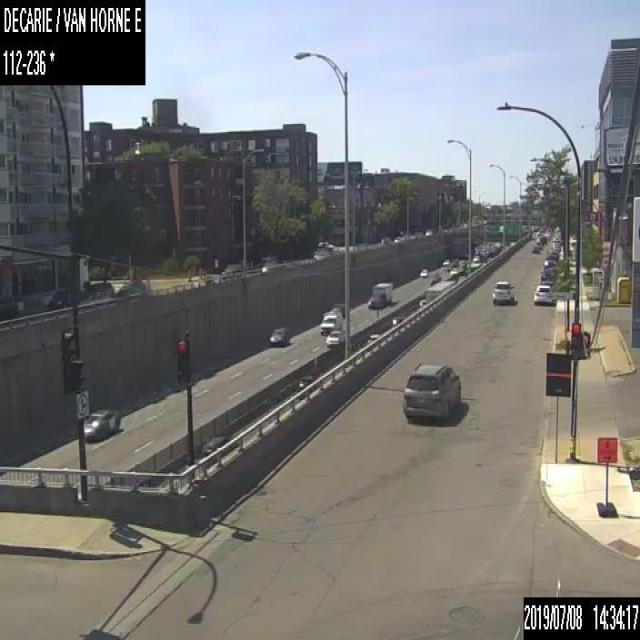construction: (596, 434, 616, 516)
vehicle: (401, 362, 459, 418), (85, 407, 119, 439), (78, 278, 114, 306), (200, 433, 234, 458), (426, 279, 456, 305), (367, 281, 392, 308), (319, 309, 342, 334), (116, 276, 146, 294), (491, 279, 513, 302), (48, 288, 74, 307), (268, 325, 289, 345), (532, 284, 552, 302), (296, 373, 314, 392), (325, 330, 343, 345), (364, 332, 381, 345), (331, 302, 344, 318), (540, 270, 554, 284), (313, 249, 328, 260), (542, 264, 556, 275), (390, 315, 405, 325), (544, 253, 556, 265), (471, 255, 480, 268), (318, 241, 332, 248), (536, 235, 544, 245), (419, 267, 427, 276), (418, 298, 426, 306), (549, 250, 557, 258), (552, 242, 560, 250), (531, 244, 538, 252), (394, 236, 402, 243), (535, 240, 541, 248), (442, 258, 449, 264)
